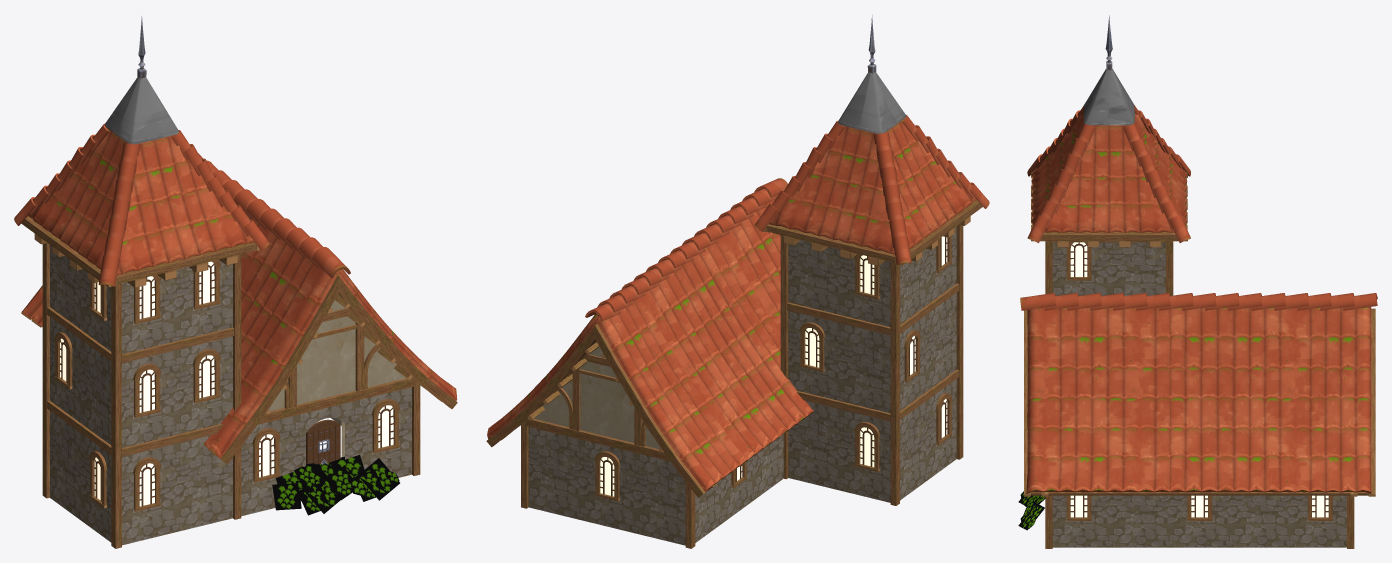
File: kit-chapel.glb
3 views of the same model, side by side, from view 1: azimuth 30°, elevation 25°; view 2: azimuth 150°, elevation 25°; view 3: azimuth 270°, elevation 25° (orthographic). The views are drawn at different scales.
Parts seen in each view (by area): view 1: house; view 2: house; view 3: house.
Part boxes in pixels (x1,y1,x2,y2): house: (14,16,457,548); house: (486,15,989,548); house: (1018,15,1377,548).
Size of the model in its own units: 11.95 by 15.82 by 11.92.
Materials: 9 (8 with a texture image).
